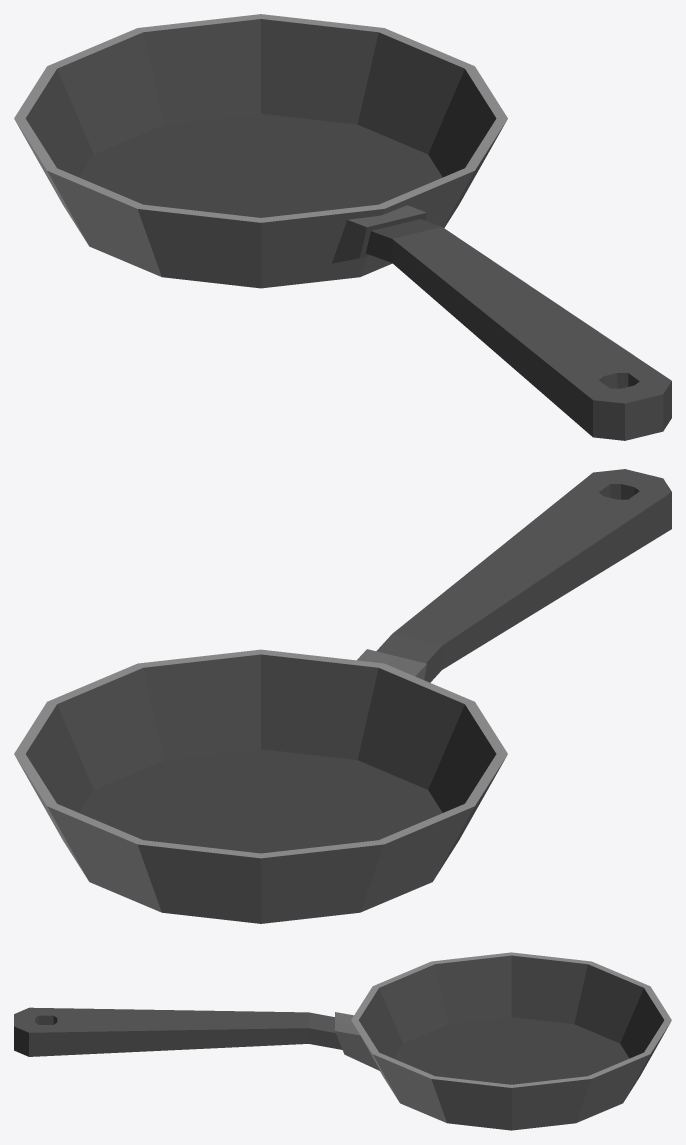
The model's file is Pan_06_C1.fbx.
The picture shows the model from 3 angles, top to bottom: view 1: azimuth 30°, elevation 25°; view 2: azimuth 150°, elevation 25°; view 3: azimuth 270°, elevation 25°; orthographic projection. The views are drawn at different scales.
Visible parts, largest first — view 1: Pan_06_C1; view 2: Pan_06_C1; view 3: Pan_06_C1.
Boxes of the visible parts, x1,y1,x2,y2 form: Pan_06_C1: (14, 14, 671, 440); Pan_06_C1: (14, 469, 671, 923); Pan_06_C1: (14, 952, 671, 1130).
Size of the model in its own units: 18.36 by 3.53 by 37.64.
